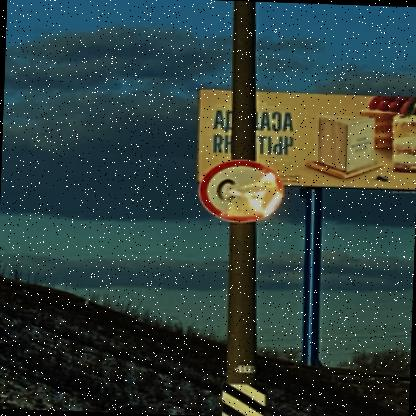speedlimit: (200, 157, 284, 221)
